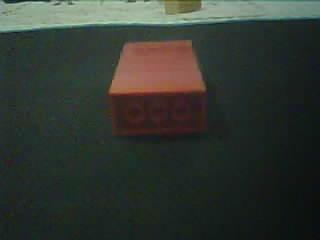lego: (108, 39, 209, 135), (164, 1, 202, 14)
